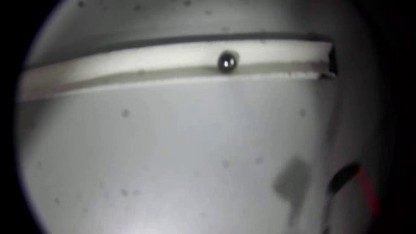gangzhu: (216, 51, 239, 75)
